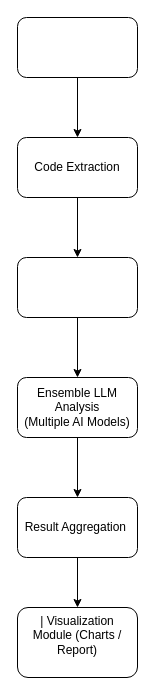
Image size: 155x695. Some labels were removed from this diagram. The centre of each missing label's shape, as x and y in pixels:
Detection Controller: pixel 77 287
Eclipse Code Editor: pixel 77 47
